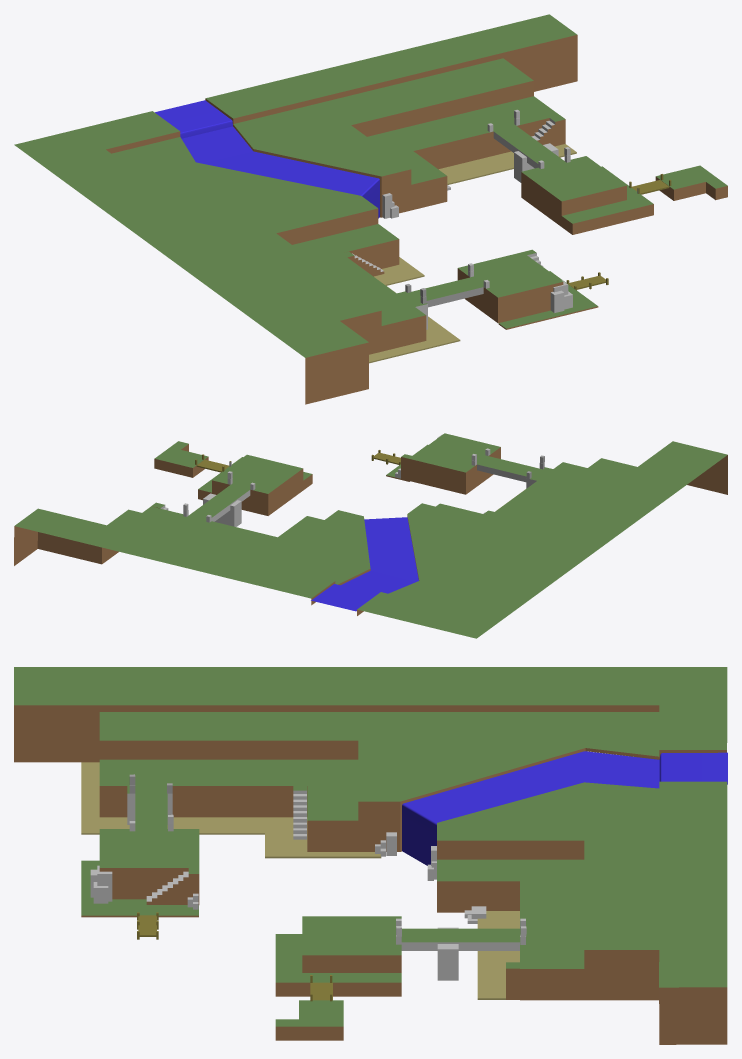
Rendered from Scenario.fbx.
3 views of the same model, one above another, from view 1: azimuth 30°, elevation 25°; view 2: azimuth 150°, elevation 25°; view 3: azimuth 270°, elevation 25° (orthographic). The views are drawn at different scales.
Parts seen in each view (by area): view 1: pCube75, pCube77, pCube68, pCube78, pCube74, pCube106; view 2: pCube75, pCube77, pCube68, pCube78, pCube74, pCube106; view 3: pCube75, pCube77, pCube68, pCube78, pCube106, pCube74.
Part boxes in pixels (x1,y1,x2,y2): pCube75: [14, 14, 577, 404]; pCube77: [521, 147, 727, 234]; pCube68: [155, 100, 379, 218]; pCube78: [457, 249, 608, 329]; pCube74: [382, 109, 576, 218]; pCube106: [342, 251, 483, 363]; pCube75: [14, 441, 727, 638]; pCube77: [154, 441, 312, 515]; pCube68: [311, 517, 418, 611]; pCube78: [371, 433, 500, 494]; pCube74: [151, 485, 250, 526]; pCube106: [477, 455, 552, 515]; pCube75: [14, 667, 727, 1044]; pCube77: [275, 916, 401, 1040]; pCube68: [402, 751, 727, 865]; pCube78: [81, 814, 199, 939]; pCube106: [81, 762, 396, 858]; pCube74: [401, 846, 526, 999].
Bounding box in the file's own units: 435 × 38.76 × 410.
